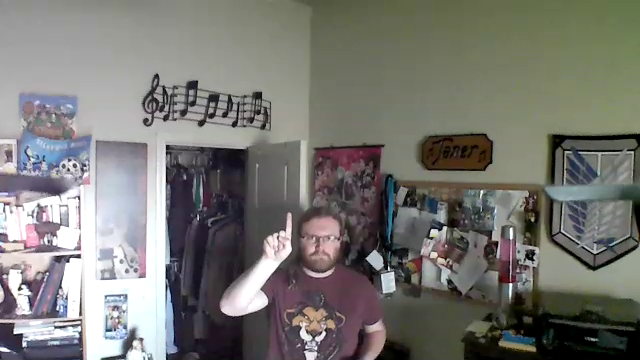up: (258, 211, 297, 266)
